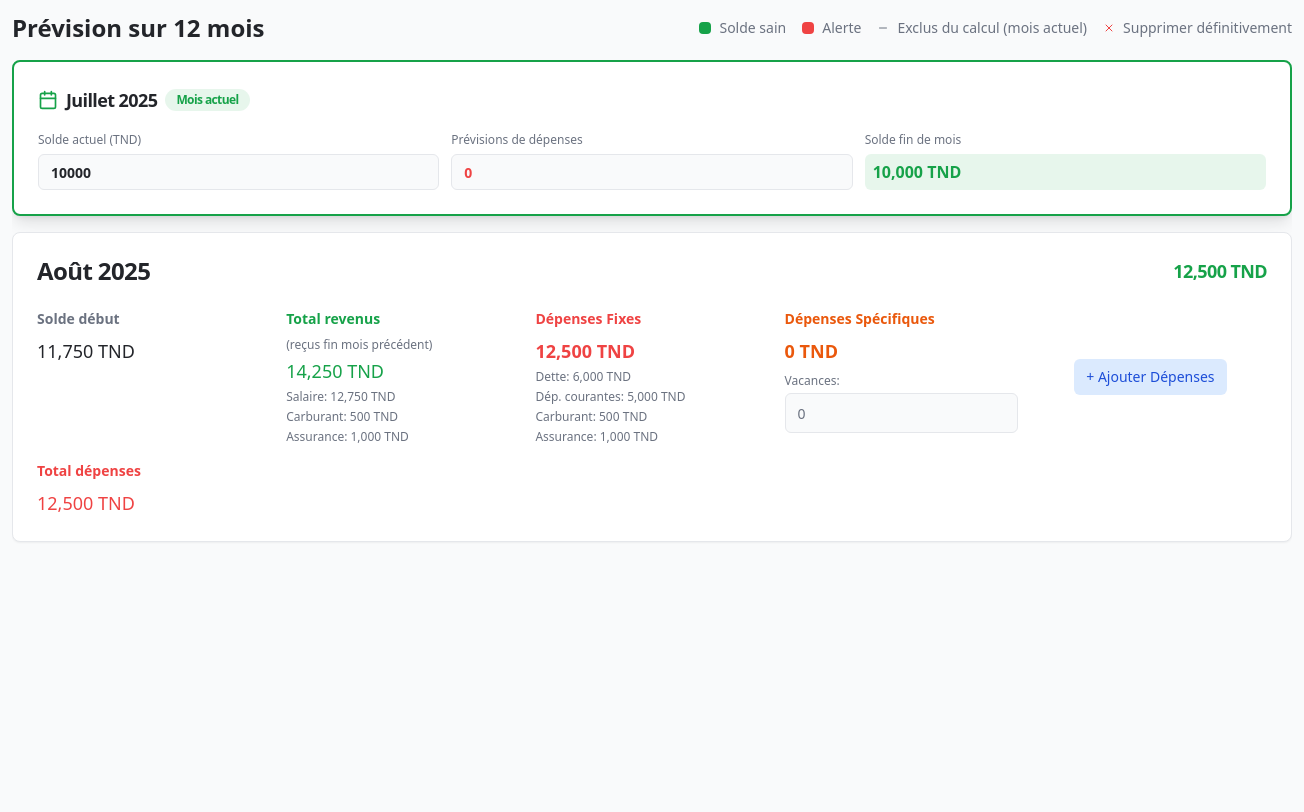
Test: MonthlyForecast Component › should show expense form when "+ Ajouter Dépenses" is clicked
The width and height of the screenshot is (1304, 812).
# Click the next month's add button (not current month)
Click the button "+ Ajouter Dépenses": click(1150, 377) [1074,359,1226,395]
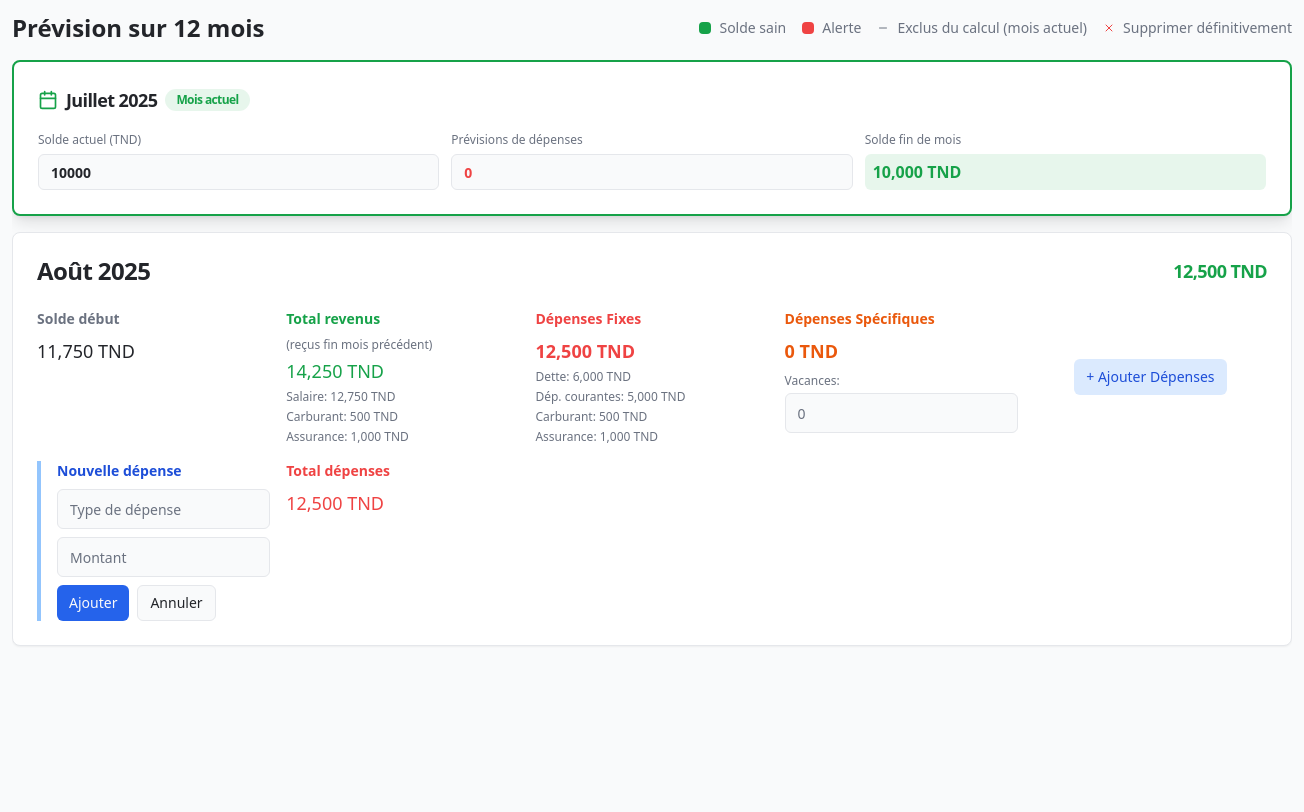
Now the field with placeholder "Type de dépense" is shown, box [57,489,270,529]
Now the number field with placeholder "Montant" is shown, box [57,537,270,577]
Now the button "Ajouter" is shown, box [57,585,129,621]
